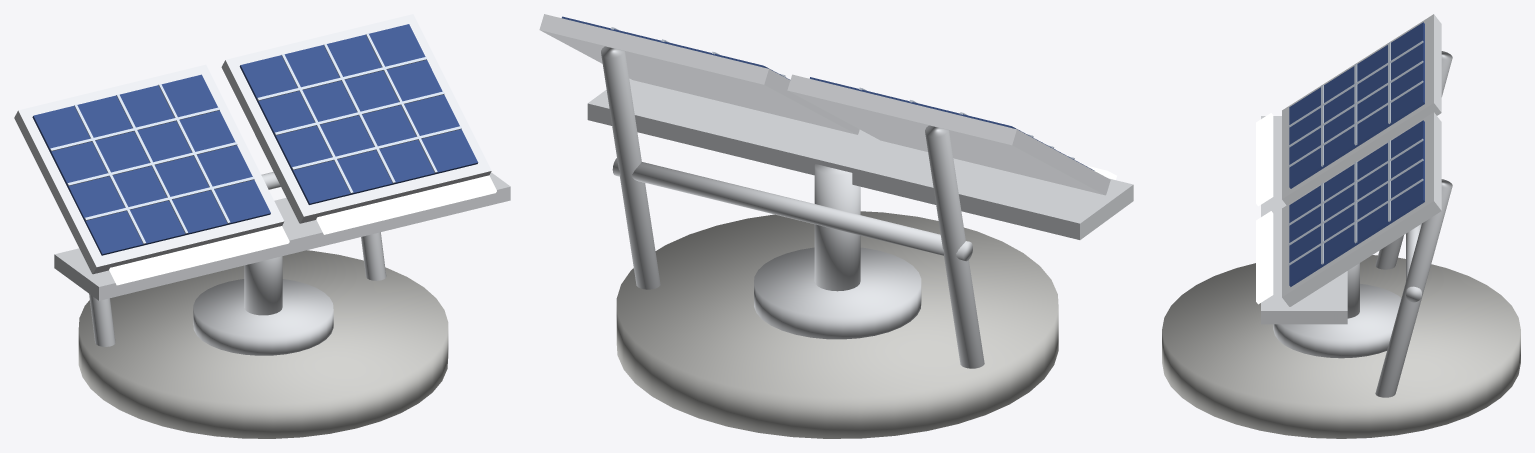
The model's file is panel_solar.glb.
3 renders of one model, left to right at view 1: azimuth 30°, elevation 25°; view 2: azimuth 150°, elevation 25°; view 3: azimuth 270°, elevation 25°, orthographic. The views are drawn at different scales.
Visible parts, largest first — view 1: Base, CeldasIzq, CeldasDer, MarcoIzq, MarcoDer, Zocalo, Cuna, BrilloDer, BrilloIzq, Mastil, SoporteIzq, SoporteDer (+12 smaller); view 2: Base, Cuna, MarcoIzq, Zocalo, MarcoDer, BarraRefuerzo, SoporteIzq, SoporteDer, Mastil, CeldasIzq; view 3: Base, CeldasIzq, CeldasDer, MarcoDer, Zocalo, Cuna, MarcoIzq, SoporteDer, BrilloIzq, BrilloDer, SoporteIzq, Mastil (+7 smaller).
Boxes of the visible parts, left/top/right/bottom form: Base: left=78, top=250, right=448, bottom=438; CeldasIzq: left=32, top=74, right=270, bottom=255; CeldasDer: left=239, top=24, right=478, bottom=204; MarcoIzq: left=14, top=64, right=284, bottom=274; MarcoDer: left=221, top=14, right=491, bottom=223; Zocalo: left=193, top=279, right=333, bottom=355; Cuna: left=54, top=172, right=510, bottom=300; BrilloDer: left=316, top=175, right=496, bottom=234; BrilloIzq: left=109, top=226, right=289, bottom=285; Mastil: left=244, top=256, right=282, bottom=315; SoporteIzq: left=89, top=294, right=115, bottom=346; SoporteDer: left=361, top=232, right=386, bottom=280; Base: left=616, top=211, right=1058, bottom=438; Cuna: left=587, top=78, right=1133, bottom=239; MarcoIzq: left=787, top=74, right=1110, bottom=195; Zocalo: left=754, top=247, right=921, bottom=339; MarcoDer: left=539, top=14, right=859, bottom=134; BarraRefuerzo: left=612, top=158, right=972, bottom=261; SoporteIzq: left=925, top=125, right=984, bottom=368; SoporteDer: left=601, top=46, right=660, bottom=289; Mastil: left=814, top=164, right=860, bottom=291; CeldasIzq: left=810, top=77, right=1094, bottom=170; Base: left=1162, top=255, right=1520, bottom=438; CeldasIzq: left=1289, top=22, right=1424, bottom=188; CeldasDer: left=1289, top=120, right=1424, bottom=286; MarcoDer: left=1282, top=112, right=1441, bottom=306; Zocalo: left=1273, top=284, right=1401, bottom=358; Cuna: left=1261, top=116, right=1347, bottom=324; MarcoIzq: left=1282, top=14, right=1441, bottom=205; SoporteDer: left=1375, top=179, right=1452, bottom=397; BrilloIzq: left=1256, top=113, right=1273, bottom=206; BrilloDer: left=1256, top=211, right=1273, bottom=304; SoporteIzq: left=1375, top=51, right=1452, bottom=269; Mastil: left=1347, top=263, right=1359, bottom=318.
Bounding box in the file's own units: 7.45 × 4.56 × 5.8.
